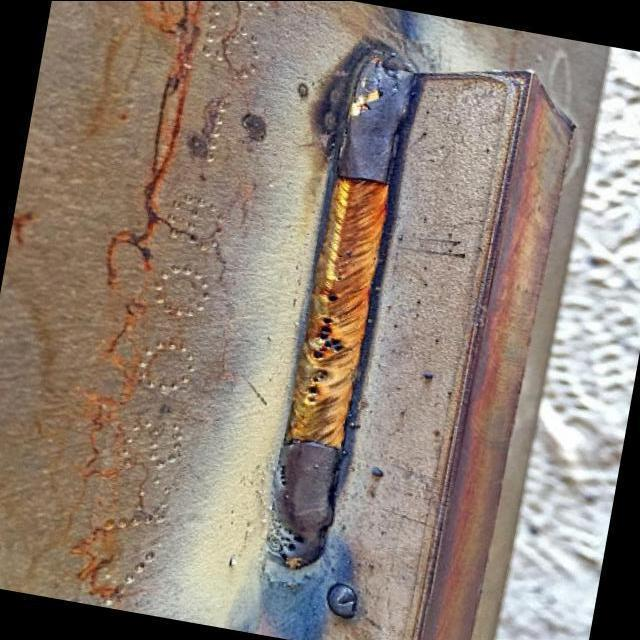defect: (311, 310, 354, 361), (272, 521, 306, 553), (303, 367, 329, 405), (272, 462, 294, 494), (323, 290, 341, 306)
